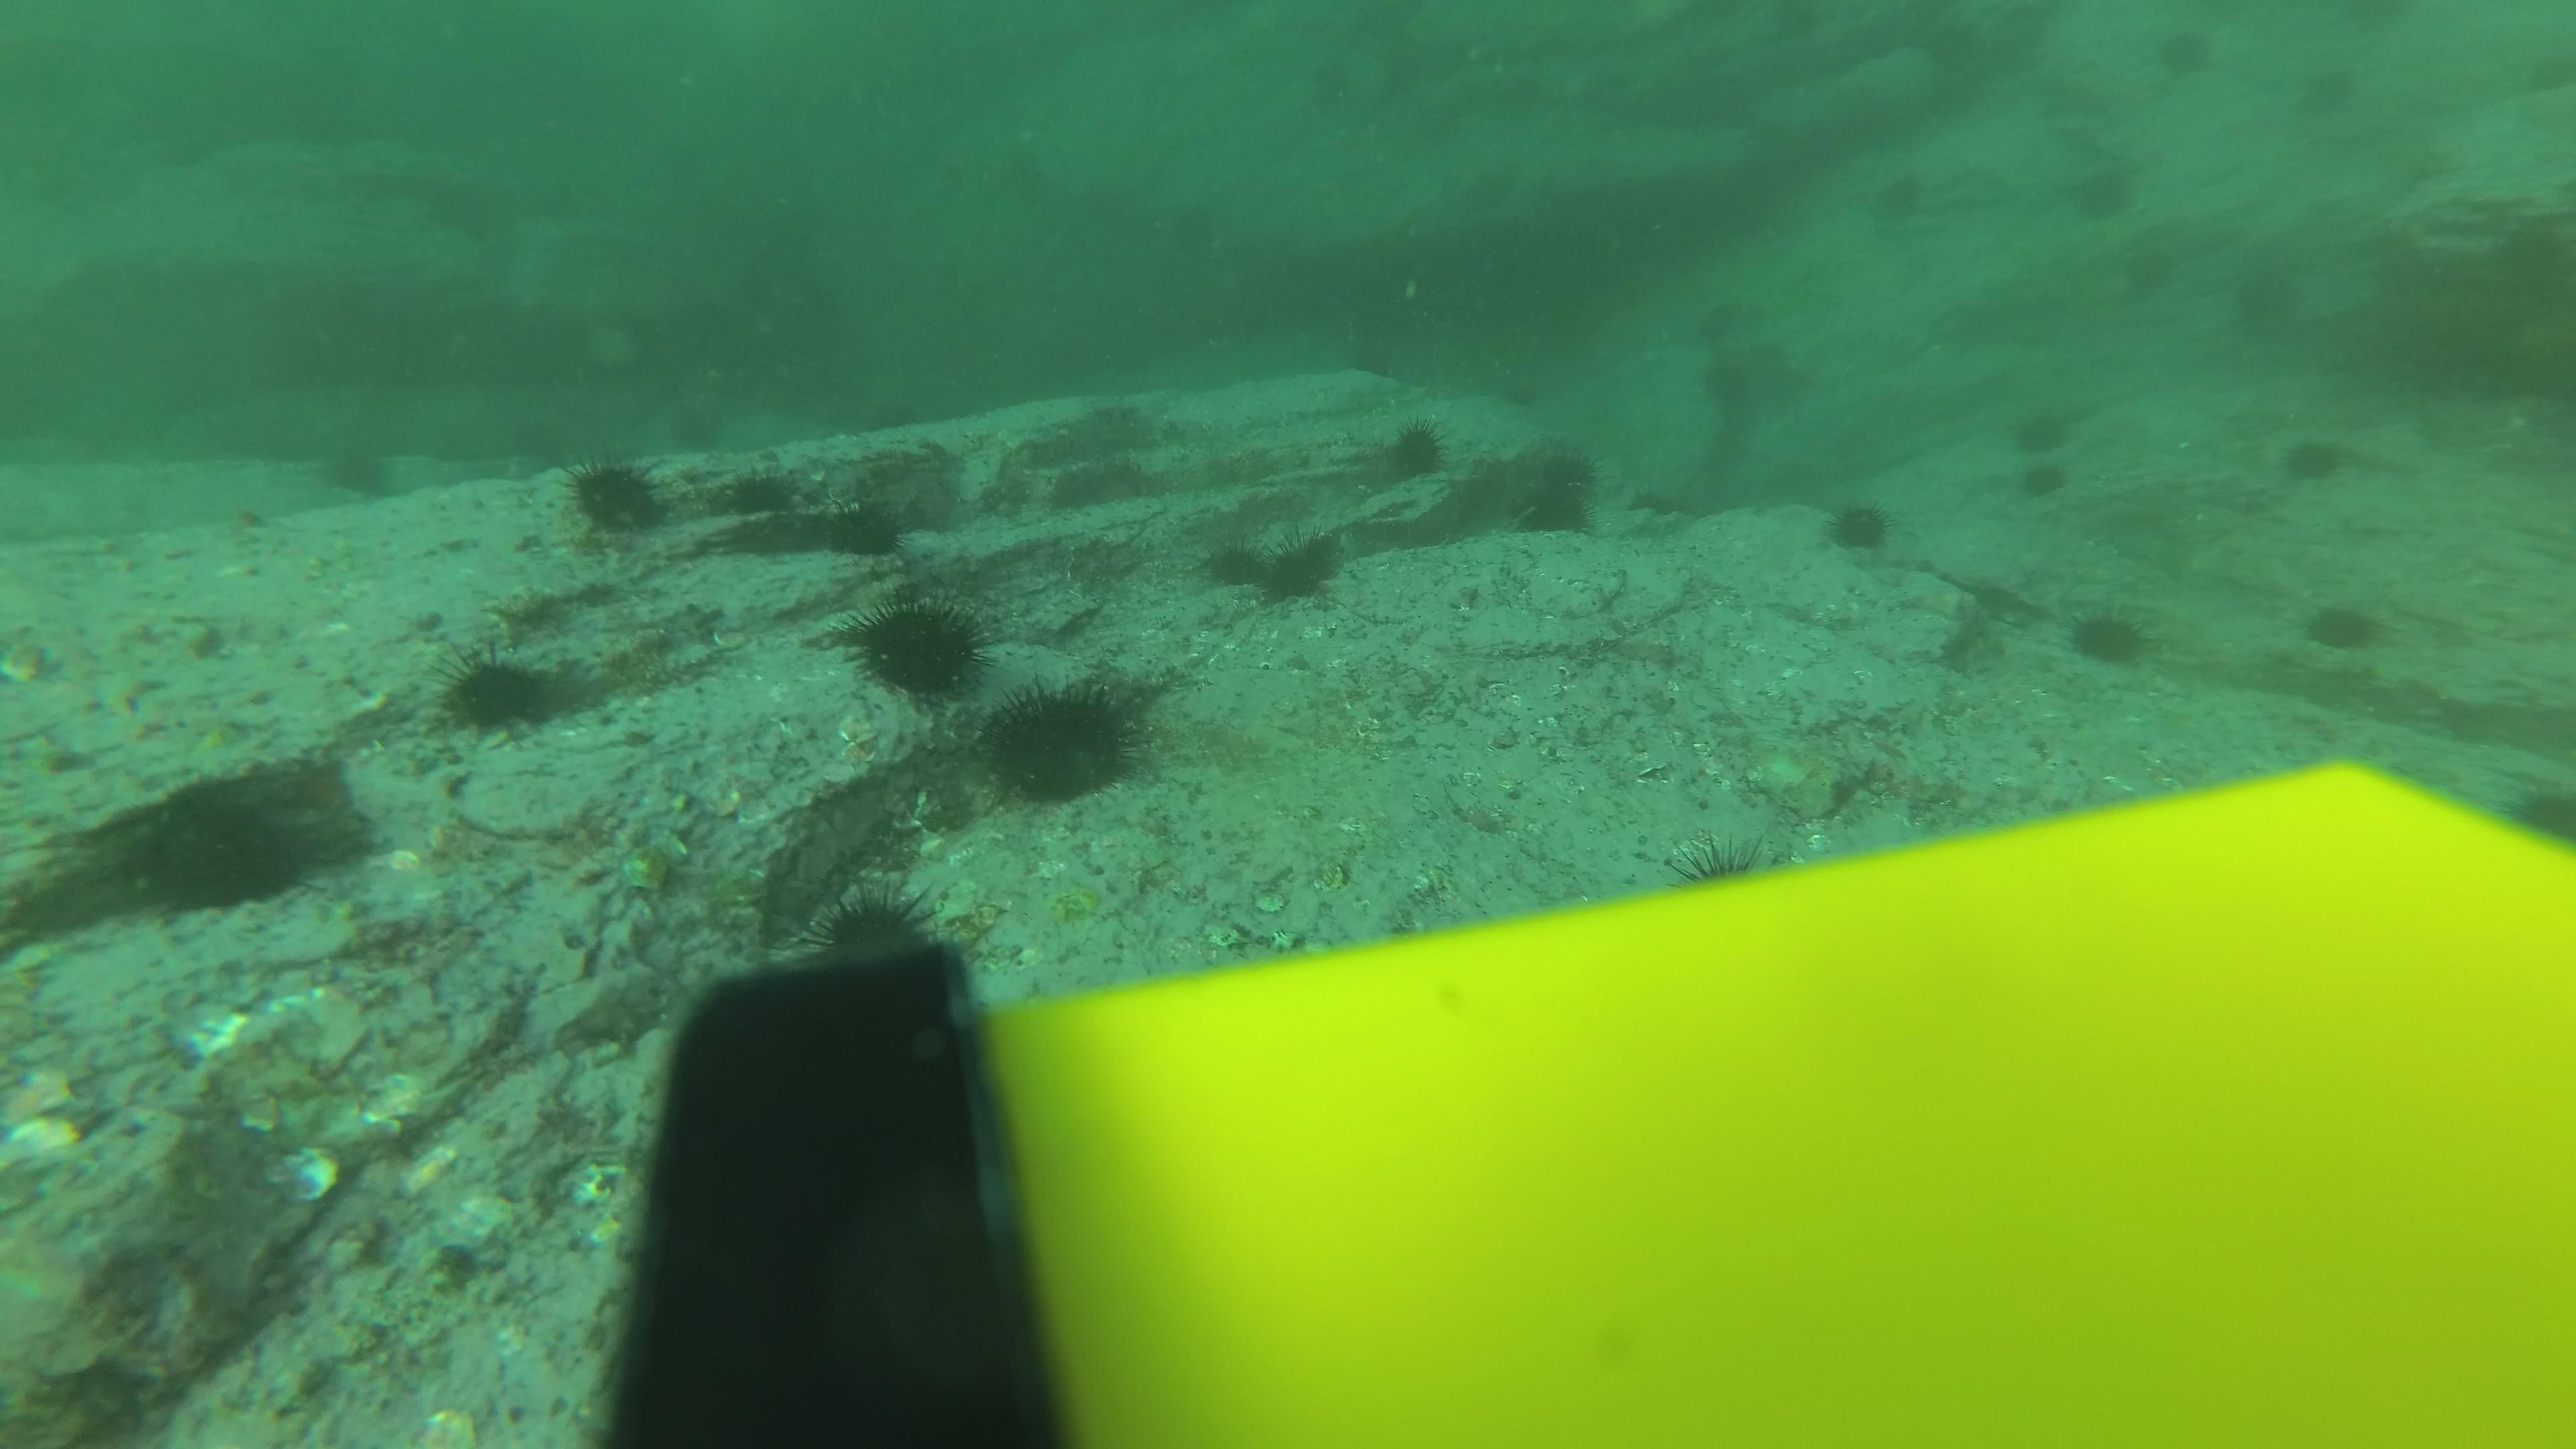echinus: (127, 778, 311, 918), (978, 674, 1150, 809), (844, 589, 991, 704), (798, 878, 947, 982), (432, 646, 568, 745), (557, 451, 674, 545), (1506, 444, 1606, 541), (1265, 531, 1352, 614), (2063, 600, 2157, 674), (313, 432, 403, 506), (1373, 412, 1454, 487), (2298, 593, 2390, 658), (1815, 492, 1900, 563), (2059, 156, 2141, 226), (826, 494, 909, 563), (2275, 428, 2353, 492), (722, 462, 801, 522), (2005, 398, 2072, 458), (1697, 356, 1766, 403), (1686, 299, 1746, 341), (1210, 541, 1260, 591), (2309, 69, 2360, 117), (2157, 34, 2217, 74), (2121, 249, 2173, 294), (1874, 170, 1928, 209), (2020, 465, 2068, 499)
